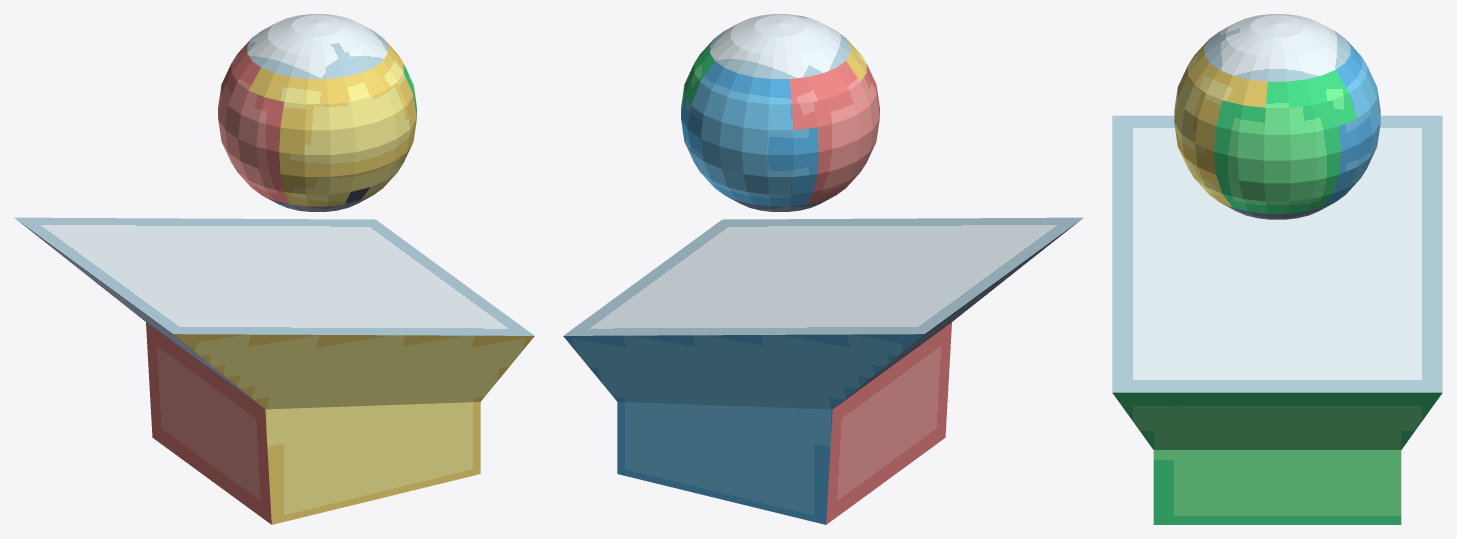
The model's file is banvil.gltf.
3 views of the same model, side by side, from view 1: azimuth 30°, elevation 25°; view 2: azimuth 150°, elevation 25°; view 3: azimuth 270°, elevation 25° (orthographic). The views are drawn at different scales.
Parts seen in each view (by area): view 1: cuboid, sphere; view 2: cuboid, sphere; view 3: cuboid, sphere.
Part boxes in pixels (x1,y1,x2,y2): cuboid: (14, 217, 534, 524); sphere: (218, 14, 416, 211); cuboid: (563, 217, 1083, 524); sphere: (681, 14, 879, 211); cuboid: (1112, 115, 1442, 524); sphere: (1174, 14, 1380, 219).
Bounding box in the file's own units: 0.0131 × 0.015 × 0.01.
